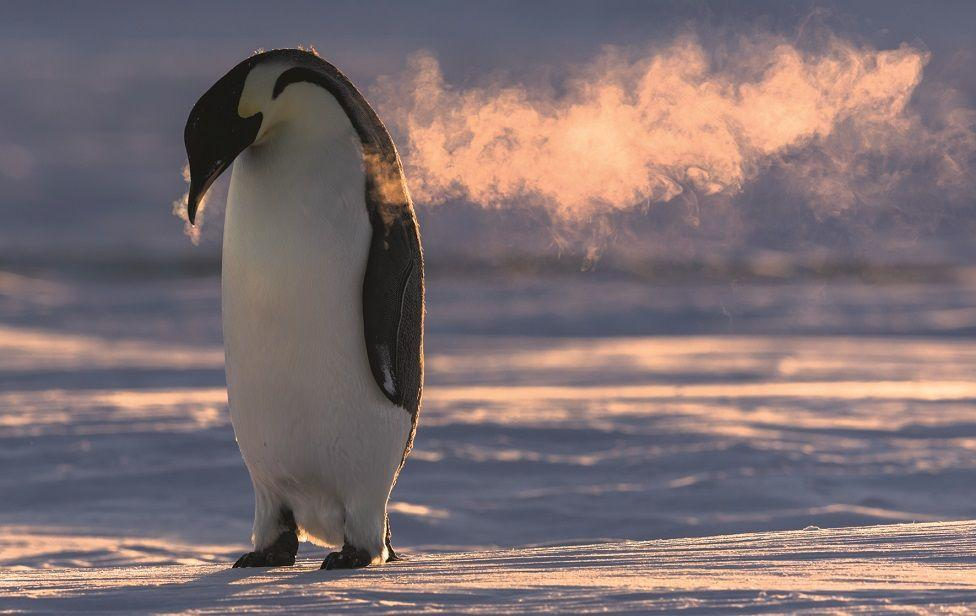emporer: (137, 36, 459, 581)
